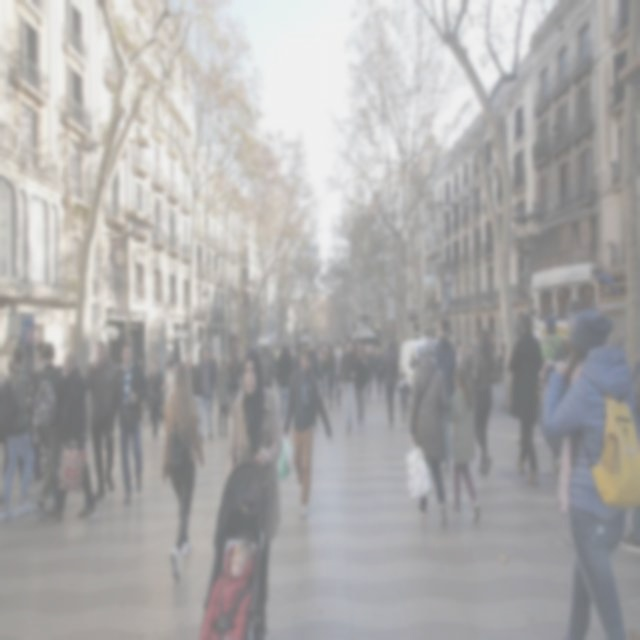pessoa: (540, 308, 639, 640), (225, 344, 282, 639), (160, 360, 204, 583), (280, 344, 334, 522), (42, 348, 97, 521), (405, 336, 450, 526), (27, 339, 68, 522), (106, 340, 150, 504), (0, 342, 36, 527), (507, 312, 545, 487), (197, 536, 257, 639), (82, 338, 119, 502), (444, 364, 481, 526), (0, 344, 33, 515), (470, 326, 500, 476), (618, 342, 639, 550), (434, 317, 458, 473), (540, 314, 562, 474), (26, 354, 44, 482), (316, 338, 344, 410), (196, 346, 216, 444), (380, 338, 400, 430), (337, 338, 356, 433), (448, 328, 478, 388), (350, 338, 368, 434), (214, 354, 232, 438), (146, 357, 163, 440), (227, 342, 245, 418), (276, 342, 292, 426), (397, 369, 412, 431), (185, 350, 200, 404), (259, 344, 275, 391), (208, 350, 218, 414), (270, 340, 282, 393), (373, 346, 384, 402), (492, 345, 506, 387), (364, 343, 374, 401), (165, 358, 178, 402), (564, 314, 578, 354), (140, 358, 150, 406), (288, 342, 302, 372), (34, 338, 46, 371), (308, 340, 317, 378), (160, 361, 168, 392), (410, 350, 422, 370), (370, 346, 376, 382), (55, 362, 64, 374), (158, 405, 164, 423), (280, 338, 289, 350), (380, 344, 387, 356), (348, 336, 353, 350), (258, 346, 263, 358)
